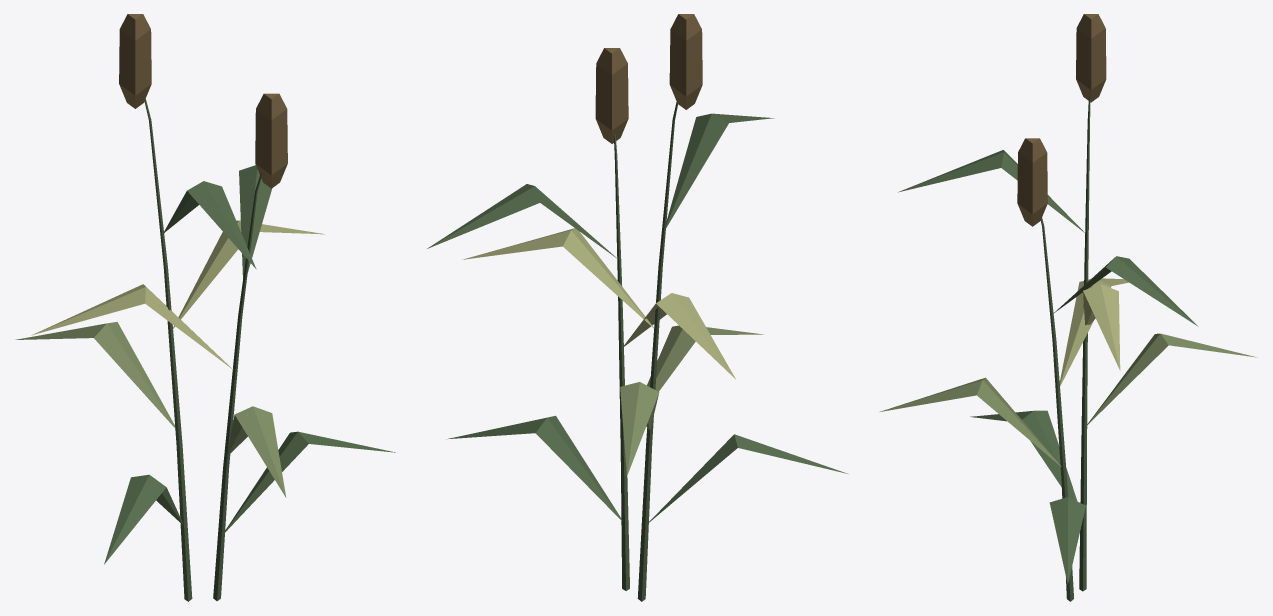
File: OASIS_REED.shadow.glb
3 renders of one model, left to right at view 1: azimuth 30°, elevation 25°; view 2: azimuth 150°, elevation 25°; view 3: azimuth 270°, elevation 25°, orthographic. The views are drawn at different scales.
Visible parts, largest first — view 1: OASIS_REED; view 2: OASIS_REED; view 3: OASIS_REED.
Part boxes in pixels (left/top/right/bottom): OASIS_REED: left=15, top=14, right=395, bottom=601; OASIS_REED: left=427, top=14, right=847, bottom=601; OASIS_REED: left=880, top=14, right=1257, bottom=601.
Bounding box in the file's own units: 0.5291 × 0.8653 × 0.5399.
Materials: 1 (1 with a texture image).
